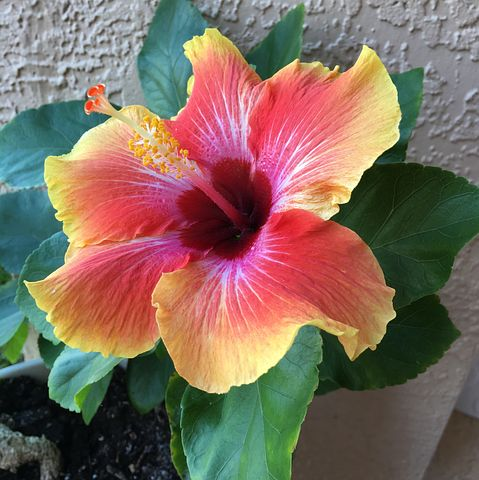Hibiscus: (20, 28, 426, 394)
